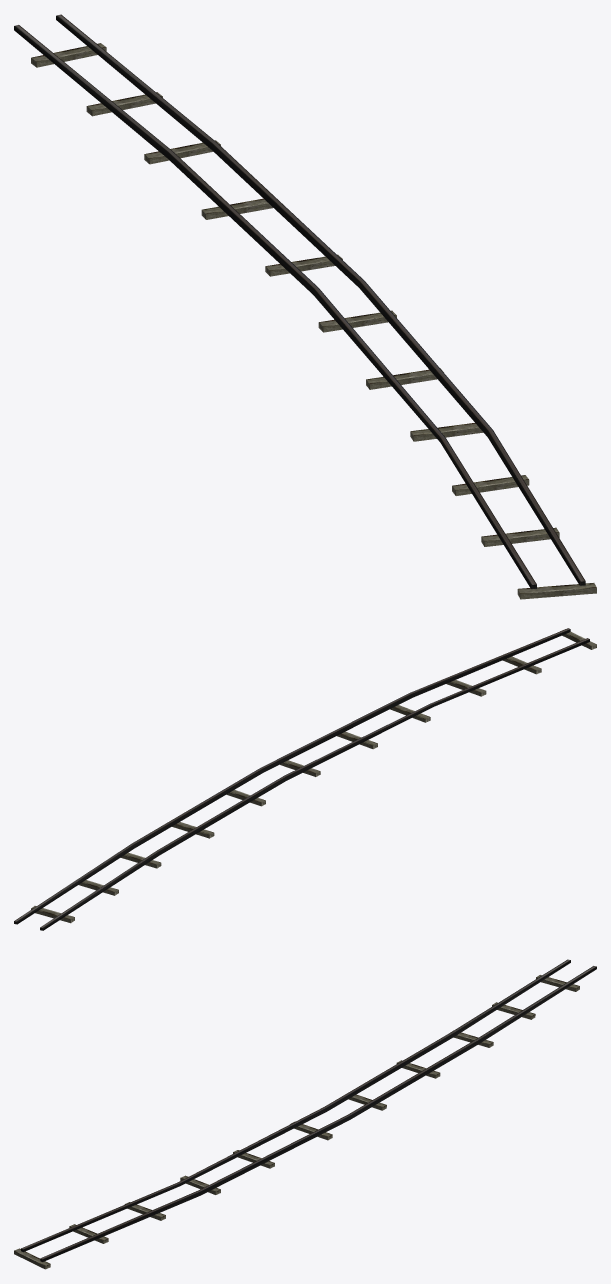
The model's file is pir_m_prp_mng_track_curve_no_dirt.fbx.
3 renders of one model, top to bottom at view 1: azimuth 30°, elevation 25°; view 2: azimuth 150°, elevation 25°; view 3: azimuth 330°, elevation 25°, orthographic. The views are drawn at different scales.
Parts seen in each view (by area): view 1: track_tie, track_left, track_right; view 2: track_left, track_right, track_tie; view 3: track_left, track_right, track_tie.
Boxes of the visible parts, x1=… form: track_tie: x1=31, y1=43, x2=596, y2=599; track_left: x1=56, y1=14, x2=585, y2=585; track_right: x1=14, y1=25, x2=536, y2=589; track_left: x1=14, y1=628, x2=570, y2=924; track_right: x1=40, y1=638, x2=589, y2=930; track_tie: x1=31, y1=629, x2=596, y2=923; track_left: x1=40, y1=966, x2=596, y2=1261; track_right: x1=21, y1=959, x2=570, y2=1252; track_tie: x1=14, y1=975, x2=579, y2=1269.
Size of the model in its own units: 1367 by 80.88 by 6798.
Materials: 1 (1 with a texture image).
